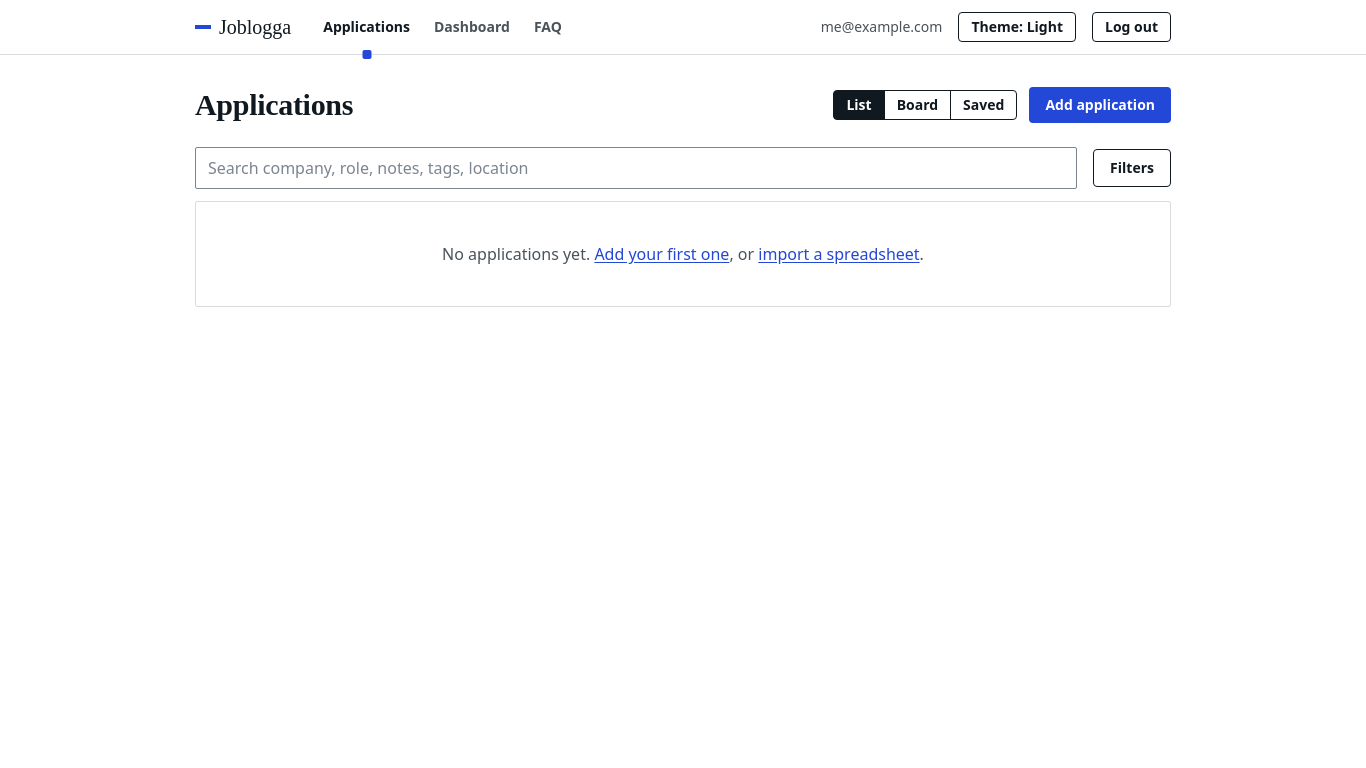
Scenario: reaching the account page › is linked from the email in the header
Click the link "me@example.com": {"x": 882, "y": 27} [821,17,942,37]
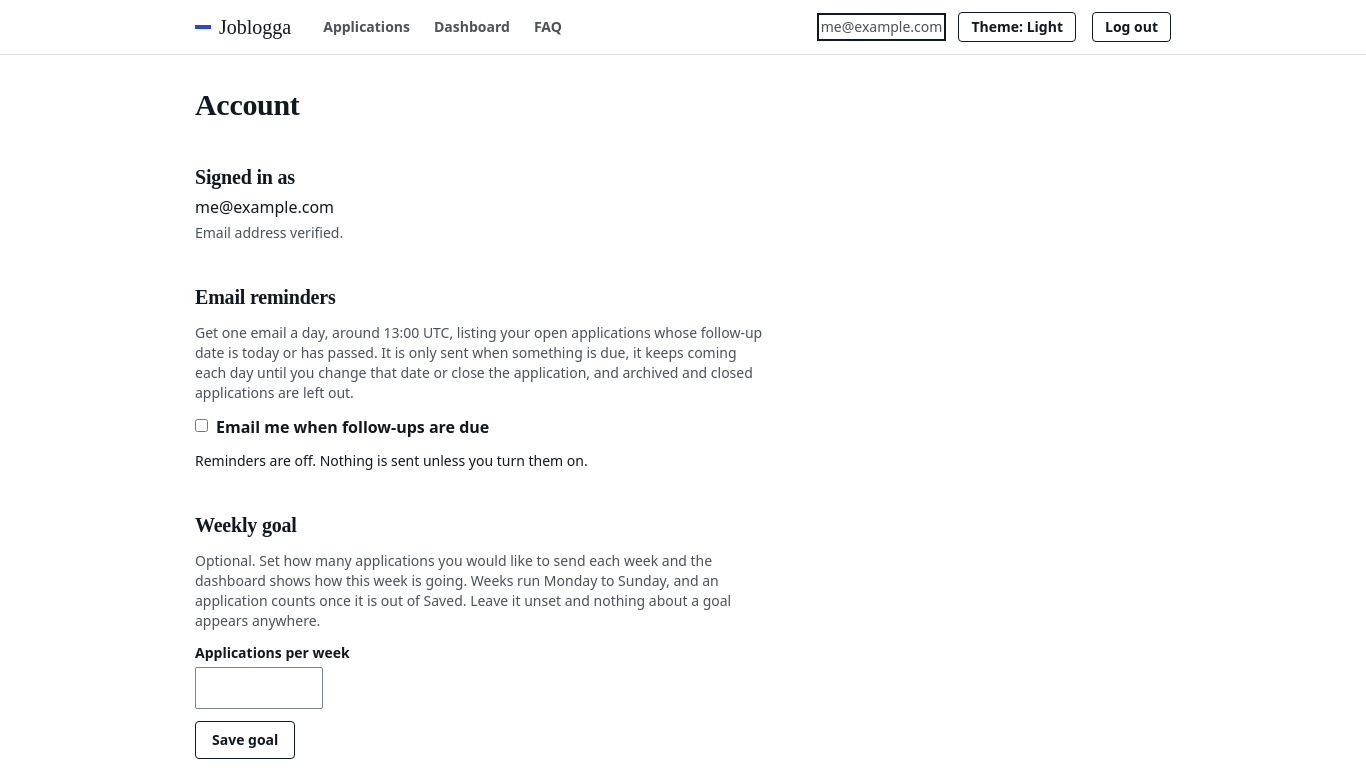
Check: the heading "Account" is shown, box [195,88,300,121]
Check: the text "Email address verified." is shown, box [195,223,343,242]
